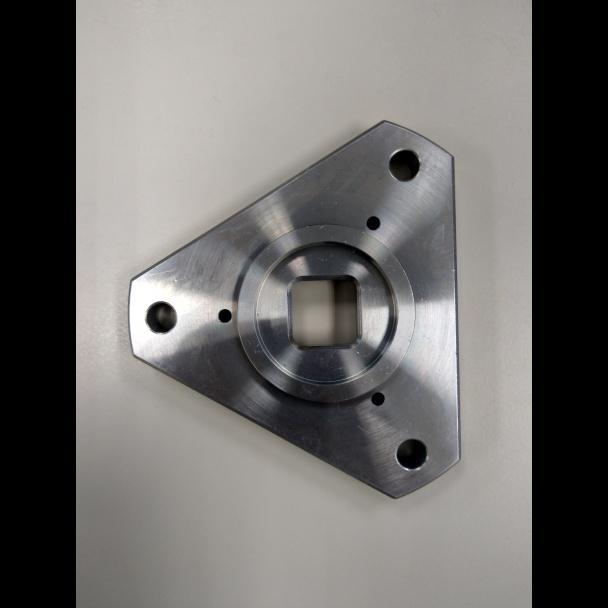hole: (381, 143, 424, 184), (138, 297, 181, 337), (392, 431, 432, 472), (361, 213, 385, 235), (368, 390, 389, 407), (216, 307, 234, 325)
